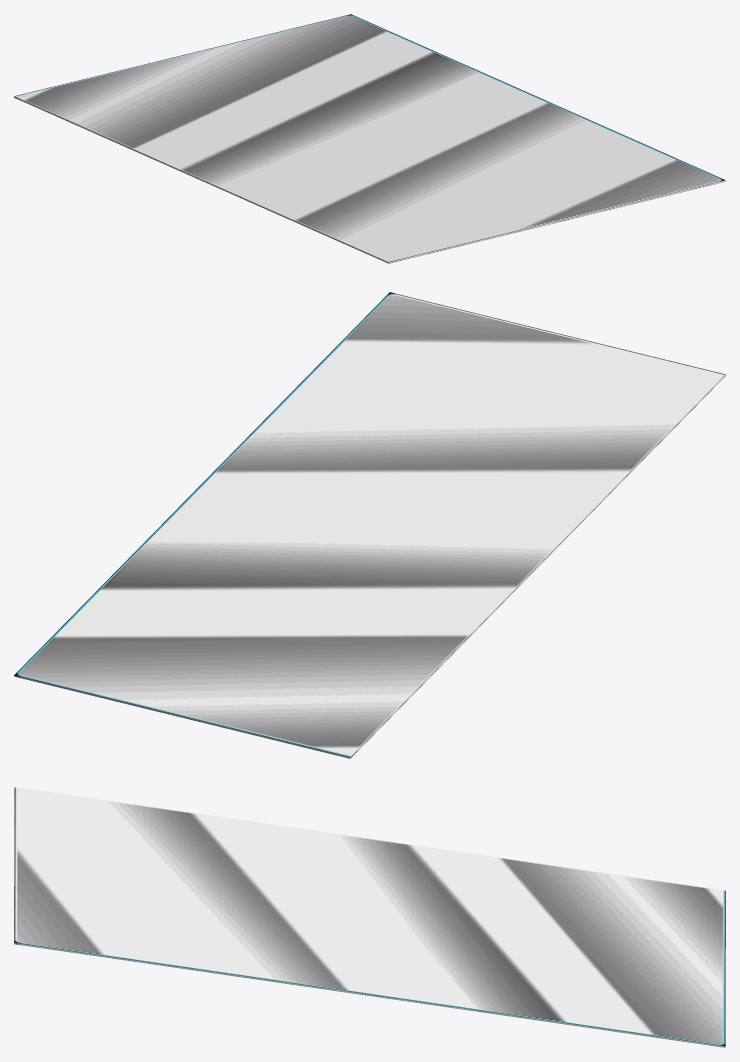
The model's file is cristal.obj.
3 views of the same model, one above another, from view 1: azimuth 30°, elevation 25°; view 2: azimuth 150°, elevation 25°; view 3: azimuth 270°, elevation 25° (orthographic). The views are drawn at different scales.
Visible parts, largest first — view 1: ARCHMODELS_47_050_54; view 2: ARCHMODELS_47_050_54; view 3: ARCHMODELS_47_050_54.
Boxes of the visible parts, box(x1,y1,x2,y2) form: ARCHMODELS_47_050_54: box(14, 14, 725, 263); ARCHMODELS_47_050_54: box(14, 292, 725, 758); ARCHMODELS_47_050_54: box(14, 787, 725, 1047).
Size of the model in its own units: 0.5911 by 0.1848 by 1.14.
